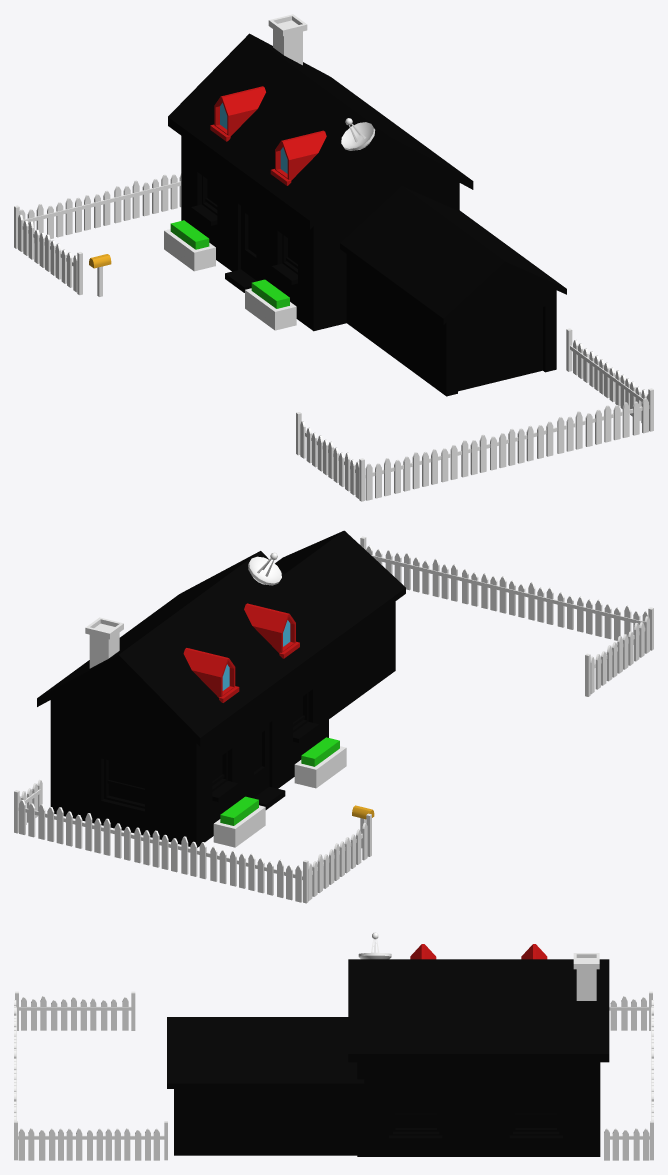
File: House_03.FBX
3 views of the same model, one above another, from view 1: azimuth 30°, elevation 25°; view 2: azimuth 150°, elevation 25°; view 3: azimuth 270°, elevation 25° (orthographic). The views are drawn at different scales.
Visible parts, largest first — view 1: House_03; view 2: House_03; view 3: House_03.
Boxes of the visible parts, left/top/right/bottom form: House_03: left=14, top=14, right=653, bottom=501; House_03: left=14, top=530, right=653, bottom=903; House_03: left=14, top=932, right=653, bottom=1160.
Size of the model in its own units: 17.11 by 10.87 by 35.22.
